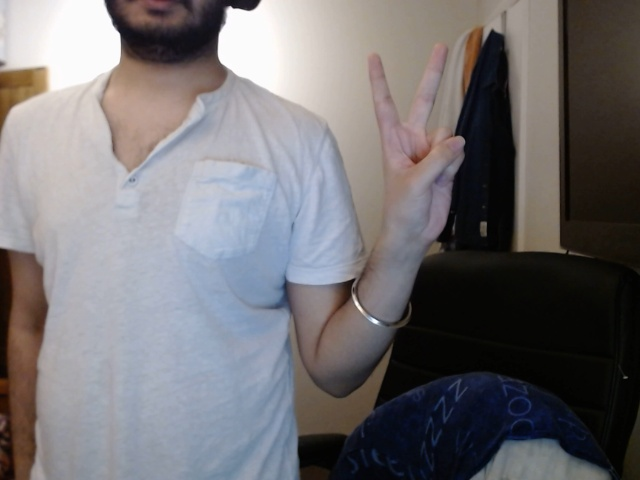Peace: (357, 38, 473, 261)
